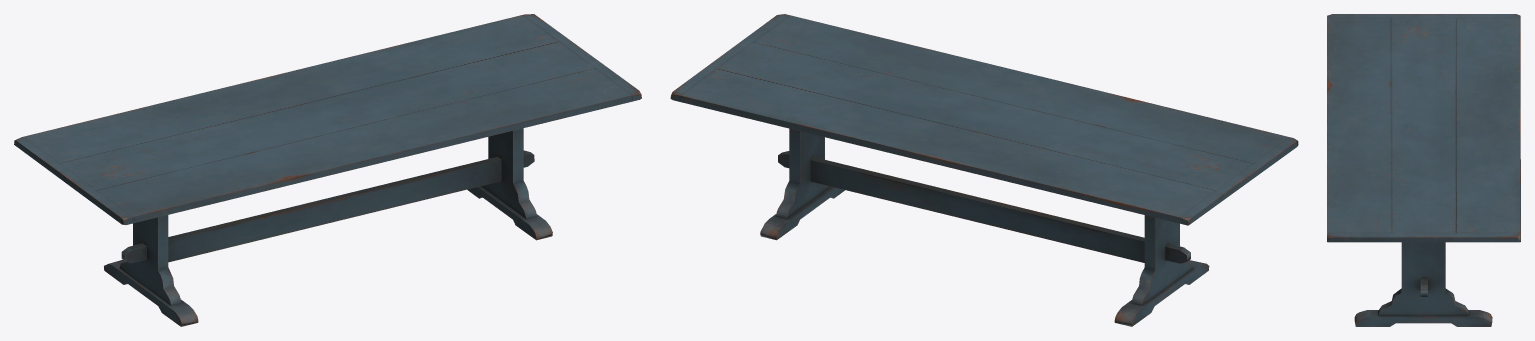
File: painted_wooden_table_lod1.glb
3 views of the same model, side by side, from view 1: azimuth 30°, elevation 25°; view 2: azimuth 150°, elevation 25°; view 3: azimuth 270°, elevation 25° (orthographic). The views are drawn at different scales.
Visible parts, largest first — view 1: painted_wooden_table; view 2: painted_wooden_table; view 3: painted_wooden_table.
Part boxes in pixels (left/top/right/bottom): painted_wooden_table: left=14, top=14, right=641, bottom=326; painted_wooden_table: left=670, top=14, right=1298, bottom=326; painted_wooden_table: left=1327, top=14, right=1520, bottom=326.
Size of the model in its own units: 3 by 0.7601 by 1.1.
1 material, 1 textured.
